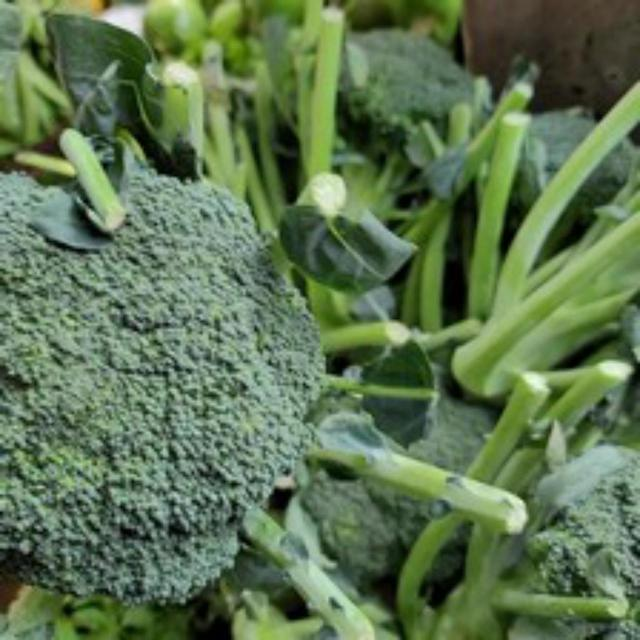broccoli: (0, 157, 320, 637)
